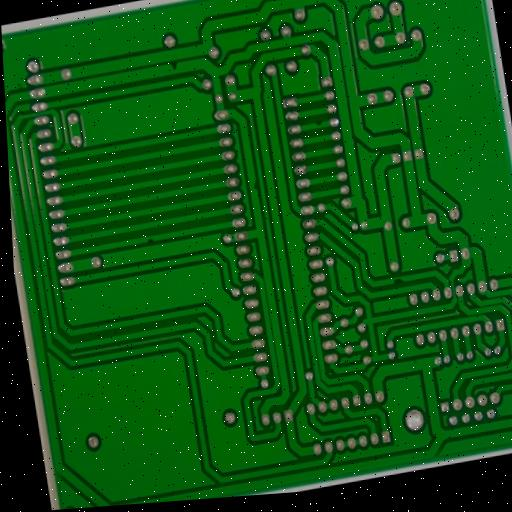mouse_bite: (389, 273, 407, 287), (249, 176, 261, 195), (142, 233, 156, 246), (167, 60, 181, 72), (313, 116, 326, 128)
